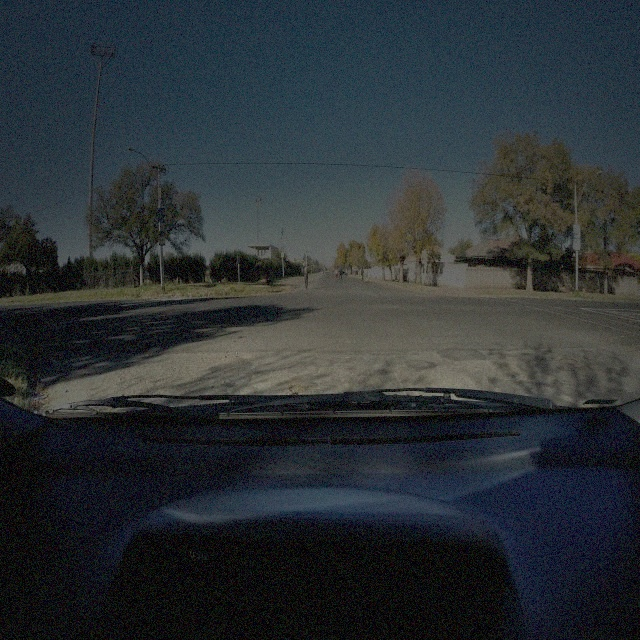pothole: (288, 382, 311, 396), (500, 361, 520, 374), (560, 356, 576, 367)
